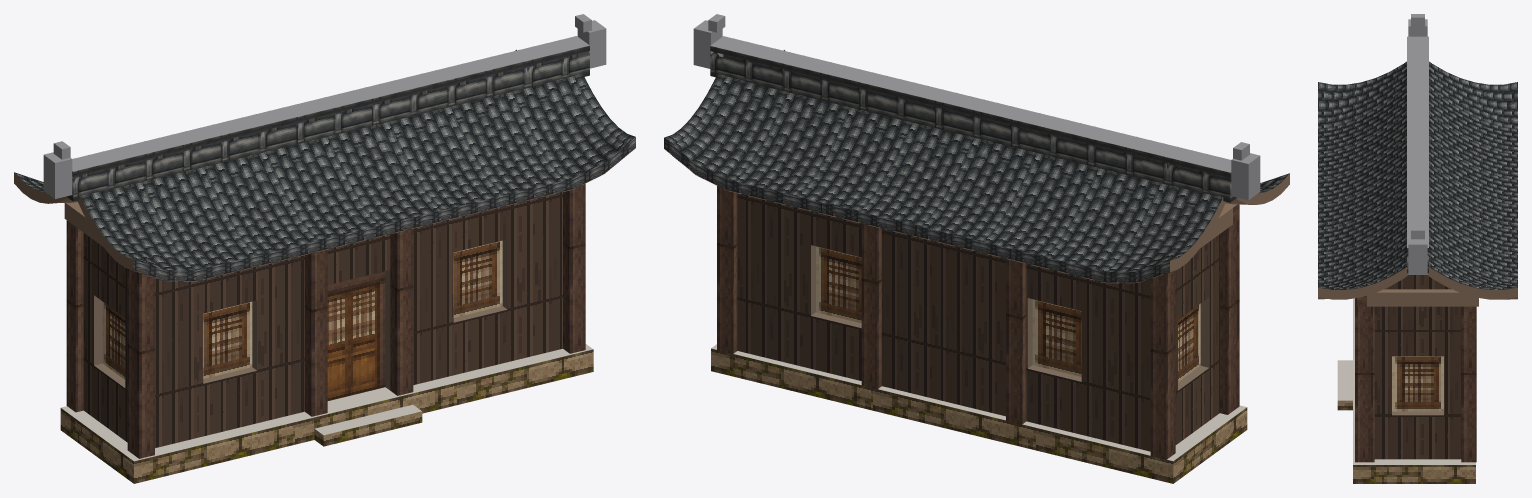
File: b_wood_b.glb
3 views of the same model, side by side, from view 1: azimuth 30°, elevation 25°; view 2: azimuth 150°, elevation 25°; view 3: azimuth 270°, elevation 25° (orthographic). The views are drawn at different scales.
Parts seen in each view (by area): view 1: roof, plaster, post, ridge, stone, ridgeend, win, door, eave, stonetop, reveal, wood; view 2: plaster, roof, post, ridge, stone, ridgeend, win, eave, stonetop, reveal, wood; view 3: roof, plaster, post, ridgeend, wood, win, stone, stonetop, reveal.
Part boxes in pixels (<box>): roof: <box>14,49,635,270</box>; plaster: <box>83,192,562,447</box>; post: <box>66,183,585,458</box>; ridge: <box>66,45,589,201</box>; stone: <box>60,349,593,483</box>; ridgeend: <box>43,14,606,198</box>; win: <box>102,240,502,379</box>; door: <box>327,271,385,400</box>; eave: <box>133,137,635,281</box>; stonetop: <box>61,344,592,461</box>; reveal: <box>94,239,507,390</box>; wood: <box>14,172,133,270</box>; plaster: <box>737,193,1219,451</box>; roof: <box>664,50,1289,271</box>; post: <box>717,186,1239,459</box>; ridge: <box>710,46,1236,202</box>; stone: <box>711,348,1247,483</box>; ridgeend: <box>693,14,1260,200</box>; win: <box>816,246,1200,381</box>; eave: <box>664,138,1169,283</box>; stonetop: <box>711,344,1246,461</box>; reveal: <box>811,245,1209,390</box>; wood: <box>664,148,1289,272</box>; roof: <box>1318,61,1517,289</box>; plaster: <box>1374,275,1461,459</box>; post: <box>1355,298,1476,462</box>; ridgeend: <box>1407,14,1428,274</box>; wood: <box>1318,267,1517,306</box>; win: <box>1392,356,1443,411</box>; stone: <box>1337,400,1475,483</box>; stonetop: <box>1337,298,1475,464</box>; reveal: <box>1392,411,1443,415</box>.
Bounding box in the file's own units: 76.8 × 42.38 × 28.78.
14 materials, 9 textured.
